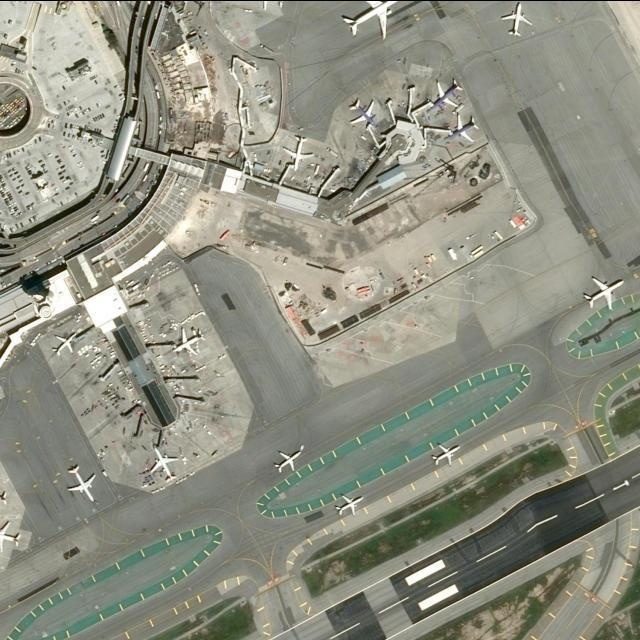Aircraft: (337, 0, 410, 38), (582, 274, 624, 308), (66, 460, 100, 500), (147, 442, 181, 481), (282, 132, 312, 169), (345, 95, 379, 127), (501, 3, 529, 35), (449, 111, 477, 142), (432, 78, 464, 103), (430, 439, 458, 467), (171, 328, 201, 354), (269, 448, 301, 472), (333, 491, 363, 516), (51, 329, 77, 355), (0, 519, 20, 552)
